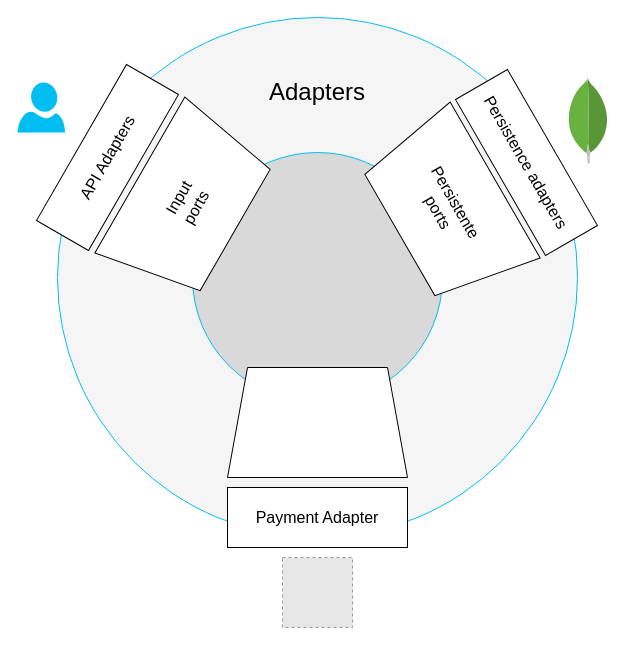
This 626x645 diagram has some shape labels left out. Grey dashed boxes stand in for pictures. Here are the shapes that lost their labels. From the top down, the centre of each, then its label:
At point 317,277: "Domain".
At point 317,422: "External Payment Service port".
